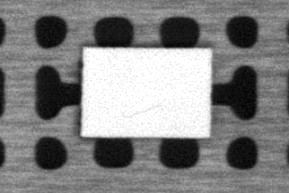DIE_CRACK: (124, 99, 164, 118)
